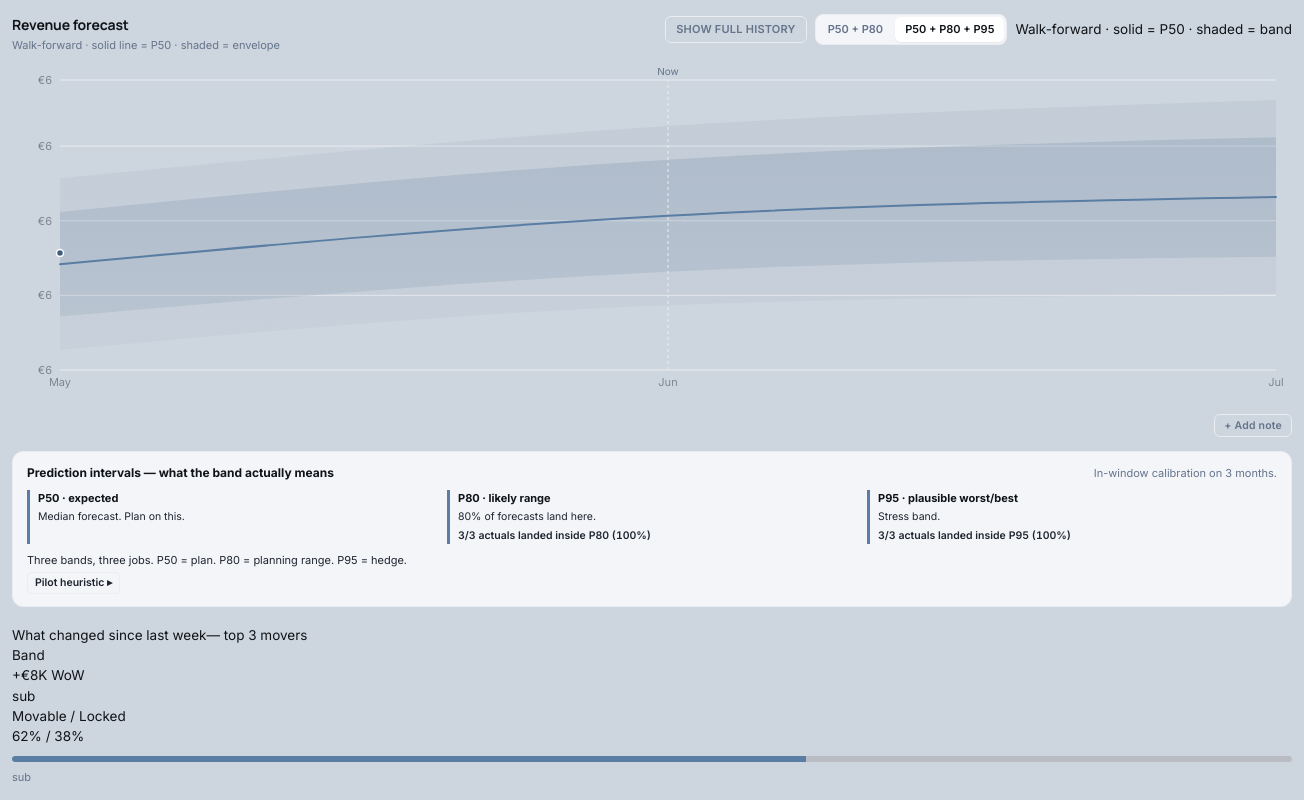
HeroForecast intervals (Phase 6) › hides the P95 band column when switched to P50 + P80 only
This screenshot has width=1304, height=800.
Expected: the text "P95 · plausible worst/best" is shown, [878,491,1018,505]
What coordinates should you click on to do the following:
click the button "P50 + P80"
I would click on:
 (855, 29)
Its box is [818,17,893,42].
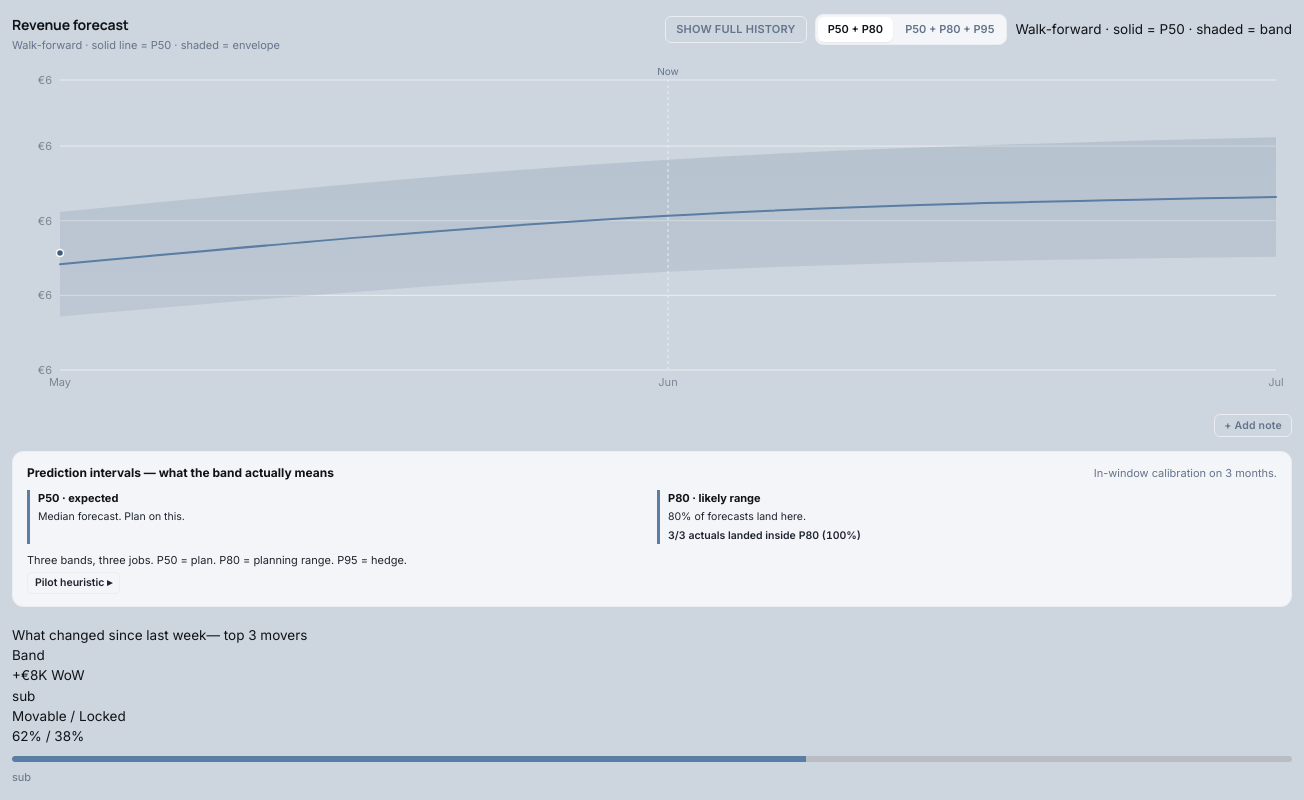
Expected: the text "P50 · expected" is shown, [38,491,118,505]
Expected: the text "P95 · plausible worst/best" is gone
